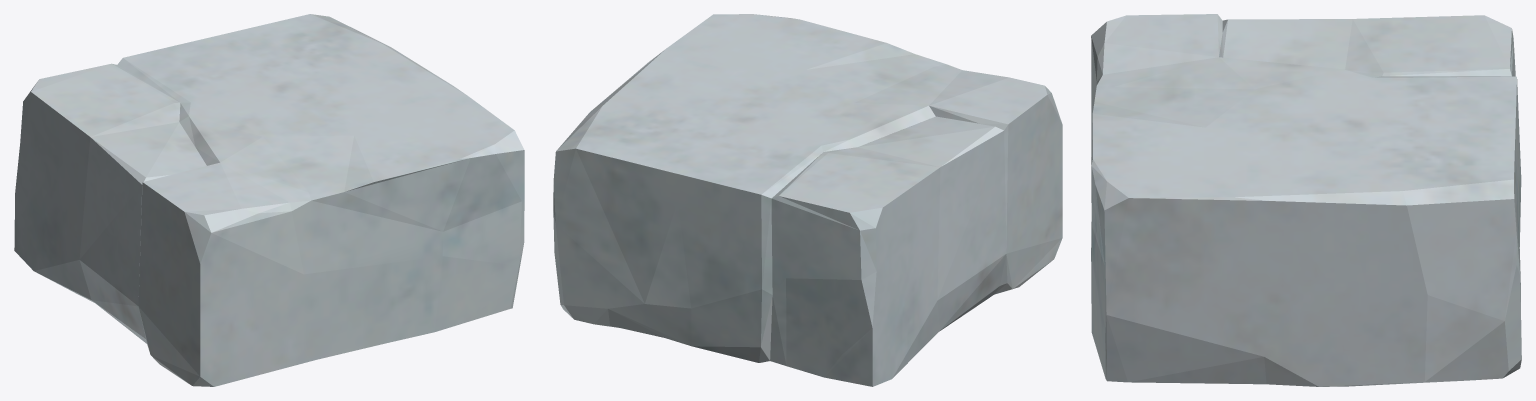
File: P_RockCubic_Metric_4x4x2.obj
3 views of the same model, side by side, from view 1: azimuth 30°, elevation 25°; view 2: azimuth 150°, elevation 25°; view 3: azimuth 270°, elevation 25° (orthographic). The views are drawn at different scales.
Size of the model in its own units: 8.3 by 4.18 by 8.18.
